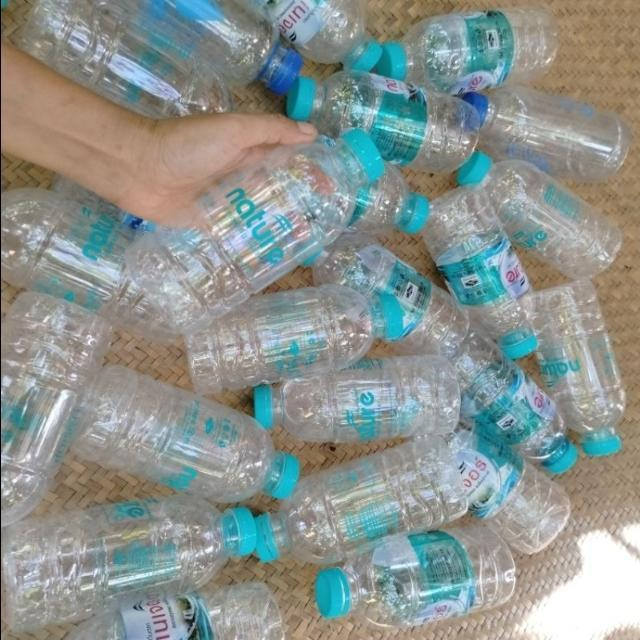PET Bottle: (66, 120, 440, 358), (80, 342, 317, 504), (0, 502, 264, 620), (235, 445, 485, 561), (339, 2, 584, 116), (24, 0, 242, 125), (0, 291, 114, 514), (459, 130, 631, 276), (288, 69, 498, 183), (226, 358, 488, 446), (306, 539, 528, 640), (413, 178, 531, 361), (437, 334, 588, 466), (526, 274, 640, 447), (0, 178, 142, 315), (322, 229, 474, 353), (458, 86, 640, 183), (56, 571, 289, 640), (169, 0, 324, 102), (251, 0, 391, 87)
